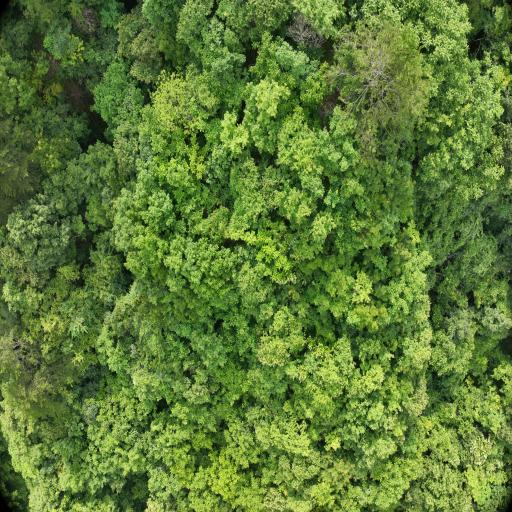dead-tree: (288, 22, 316, 45)
